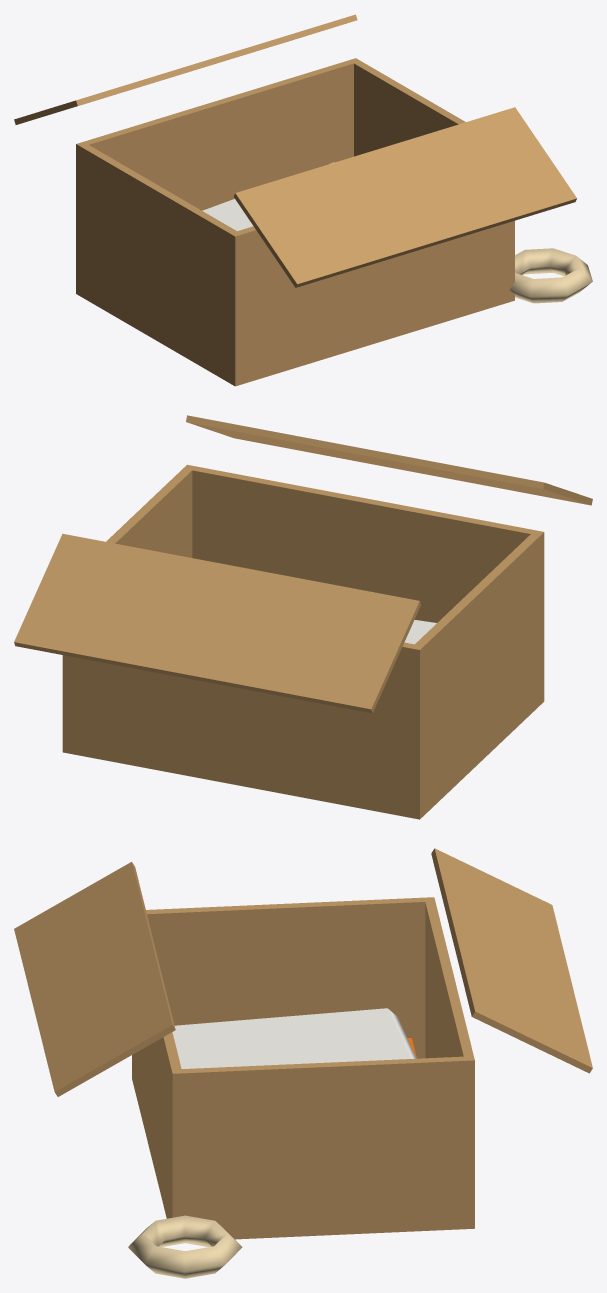
The model's file is station_processing_ausstattung_1_1.glb.
The picture shows the model from 3 angles, top to bottom: view 1: azimuth 30°, elevation 25°; view 2: azimuth 150°, elevation 25°; view 3: azimuth 270°, elevation 25°; orthographic projection. The views are drawn at different scales.
Visible parts, largest first — view 1: station_processing_ausstattung_1_1; view 2: station_processing_ausstattung_1_1; view 3: station_processing_ausstattung_1_1.
Part boxes in pixels (left/top/right/bottom): station_processing_ausstattung_1_1: left=14, top=14, right=592, bottom=386; station_processing_ausstattung_1_1: left=14, top=415, right=592, bottom=819; station_processing_ausstattung_1_1: left=14, top=848, right=592, bottom=1278.
Size of the model in its own units: 0.6302 by 0.284 by 0.6857.
